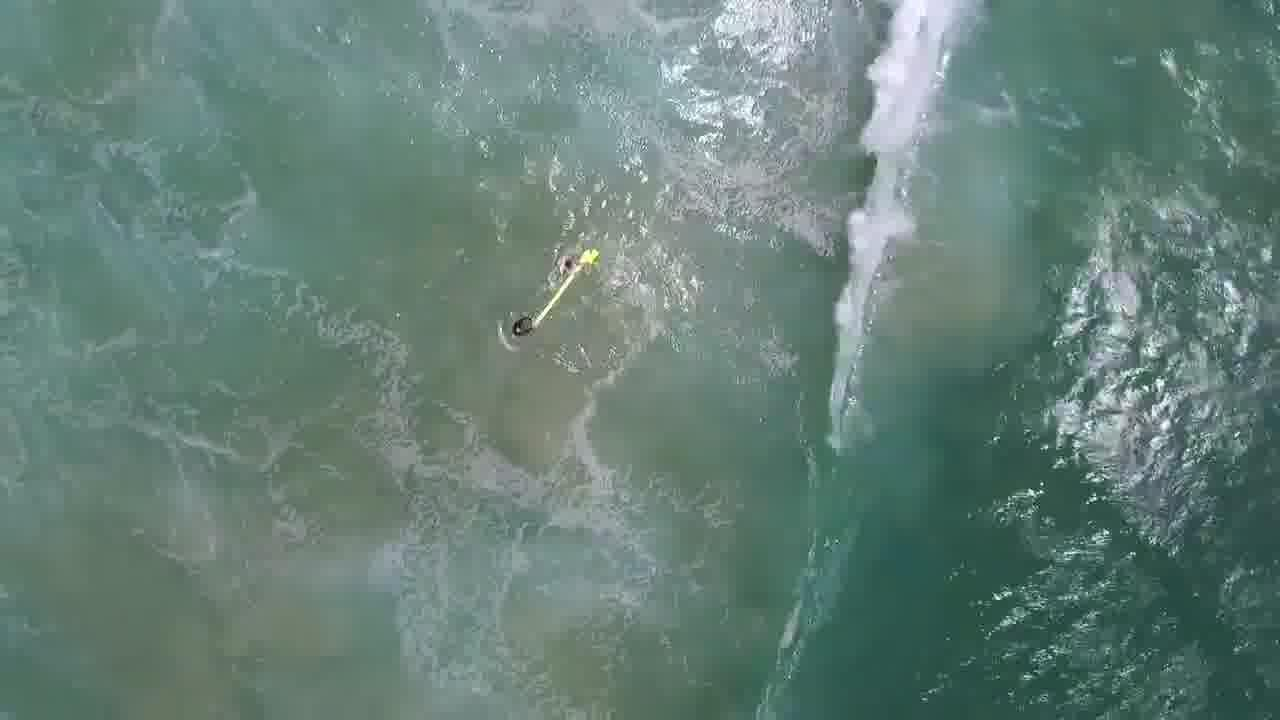swimmer: (502, 316, 539, 346)
